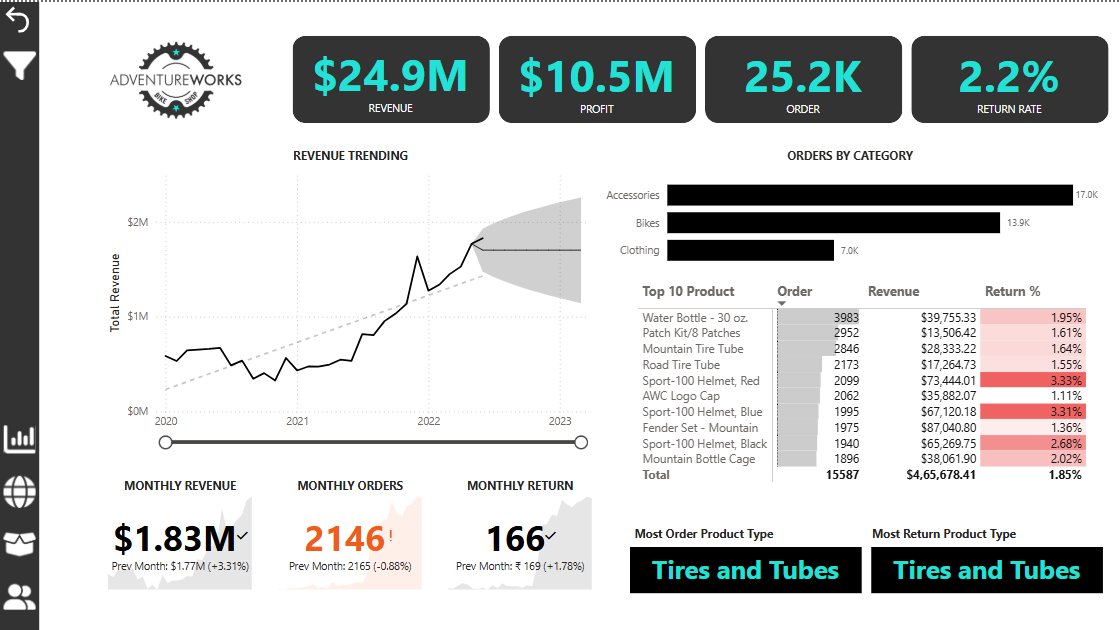

The dashboard page shown, as its layout file describes it:
{"tool":"powerbi","page":{"name":"Exe Dashboard","canvas":[1280,720],"ordinal":0},"visuals":[{"type":"shape","title":"Left Bar","box":[0,0,45,720],"z":0},{"type":"card","fields":{"Values":["Measure Table.Total Revenue"]},"box":[341.8,39.1,210,100.9],"z":0,"group":"g3"},{"type":"group","id":"g1","title":"KPI Background","box":[334.3,39.7,933.4,100],"z":0,"group":"g2"},{"type":"shape","box":[334.3,39.7,225.7,100],"z":0,"group":"g1"},{"type":"actionButton","box":[0.4,474.7,44.7,50.5],"z":0,"group":"g4"},{"type":"group","id":"g2","title":"KPI","box":[334.3,39.1,933.4,101.4],"z":1000},{"type":"group","id":"g3","title":"KPI Values","box":[341.8,39.1,916.8,101.4],"z":1000,"group":"g2"},{"type":"card","fields":{"Values":["Measure Table.Return Rate"]},"box":[1048.6,39.1,210,101.4],"z":1000,"group":"g3"},{"type":"shape","box":[570.2,39.7,225.7,100],"z":1000,"group":"g1"},{"type":"actionButton","box":[0.4,594.9,44.7,50.5],"z":1000,"group":"g4"},{"type":"card","fields":{"Values":["Measure Table.Total Order"]},"box":[813,39.1,210,101.4],"z":2000,"group":"g3"},{"type":"shape","box":[806.1,39.7,225.7,100],"z":2000,"group":"g1"},{"type":"lineChart","title":"REVENUE TRENDING","fields":{"Y":["Measure Table.Total Revenue"],"Category":["Calendar Lookup.Year","Calendar Lookup.Start of Quarter","Calendar Lookup.Start of Month"]},"box":[118.6,166.3,563.7,348.5],"z":2000},{"type":"actionButton","box":[0.4,534.8,44.7,50.5],"z":2000,"group":"g4"},{"type":"card","fields":{"Values":["Measure Table.Total Profit"]},"box":[577.4,39.1,210,101.4],"z":3000,"group":"g3"},{"type":"shape","box":[1042,39.7,225.7,100],"z":3000,"group":"g1"},{"type":"kpi","title":"MONTHLY REVENUE","fields":{"Indicator":["Measure Table.Total Revenue"],"TrendLine":["Calendar Lookup.Start of Month"],"Goal":["Measure Table.Previous Month Revenue"]},"box":[118.3,542.5,174.6,134.2],"z":3000},{"type":"actionButton","box":[0.4,655,44.7,50.5],"z":3000,"group":"g4"},{"type":"kpi","title":"MONTHLY ORDERS","fields":{"TrendLine":["Calendar Lookup.Start of Month"],"Indicator":["Measure Table.Total Order"],"Goal":["Measure Table.Previous Month Orders"]},"box":[313.1,542.5,174.6,134.2],"z":4000},{"type":"kpi","title":"MONTHLY RETURN","fields":{"TrendLine":["Calendar Lookup.Start of Month"],"Indicator":["Measure Table.Total Return"],"Goal":["Measure Table.Previous Month Return"]},"box":[507.9,542.5,174.6,134.2],"z":5000},{"type":"clusteredBarChart","title":"ORDERS BY CATEGORY","fields":{"Category":["Product Categories Lookup.CategoryName"],"Y":["Measure Table.Total Order"]},"box":[682.3,166.3,577.2,149.2],"z":6000},{"type":"pivotTable","fields":{"Rows":["Product Lookup.ProductName"],"Values":["Measure Table.Total Order","Measure Table.Total Revenue","Measure Table.Return Rate"]},"box":[725,315,542.5,238.8],"z":7000},{"type":"card","fields":{"Values":["Min(Product Subcategories Lookup.SubcategoryName)"]},"box":[719.6,622.9,264.5,52.6],"z":8000},{"type":"textbox","box":[720.2,593.1,185.9,29.3],"z":9000},{"type":"textbox","box":[991.7,593.1,205.4,29.3],"z":10000},{"type":"card","fields":{"Values":["Min(Product Subcategories Lookup.SubcategoryName)"]},"box":[995.6,622.9,264.5,52.6],"z":11000},{"type":"actionButton","box":[0,0,44.7,40.4],"z":12000},{"type":"group","id":"g4","title":"Navigation Button","box":[0.4,474.7,44.7,230.8],"z":13000},{"type":"actionButton","box":[0,48.9,45.2,48.9],"z":14000},{"type":"image","box":[68.5,39.1,265.4,101.5],"z":16000}]}

Visuals, with their boxes on the page's 1280x720 design canvas (x1, y1, x2, y2). These are canvas units, not pixel positions in the 1120x630 screenshot, which may show the page scaled, cropped or inside an application window:
"Left Bar" shape: select_region(0, 0, 45, 720)
card - Measure Table.Total Revenue: select_region(342, 39, 552, 140)
"KPI Background" group: select_region(334, 40, 1268, 140)
shape: select_region(334, 40, 560, 140)
actionButton: select_region(0, 475, 45, 525)
"KPI" group: select_region(334, 39, 1268, 140)
"KPI Values" group: select_region(342, 39, 1259, 140)
card - Measure Table.Return Rate: select_region(1049, 39, 1259, 140)
shape: select_region(570, 40, 796, 140)
actionButton: select_region(0, 595, 45, 645)
card - Measure Table.Total Order: select_region(813, 39, 1023, 140)
shape: select_region(806, 40, 1032, 140)
"REVENUE TRENDING" lineChart: select_region(119, 166, 682, 515)
actionButton: select_region(0, 535, 45, 585)
card - Measure Table.Total Profit: select_region(577, 39, 787, 140)
shape: select_region(1042, 40, 1268, 140)
"MONTHLY REVENUE" kpi: select_region(118, 542, 293, 677)
actionButton: select_region(0, 655, 45, 706)
"MONTHLY ORDERS" kpi: select_region(313, 542, 488, 677)
"MONTHLY RETURN" kpi: select_region(508, 542, 682, 677)
"ORDERS BY CATEGORY" clusteredBarChart: select_region(682, 166, 1260, 316)
pivotTable - Product Lookup.ProductName x Measure Table.Total Order: select_region(725, 315, 1268, 554)
card - Min(Product Subcategories Lookup.SubcategoryName): select_region(720, 623, 984, 676)
textbox: select_region(720, 593, 906, 622)
textbox: select_region(992, 593, 1197, 622)
card - Min(Product Subcategories Lookup.SubcategoryName): select_region(996, 623, 1260, 676)
actionButton: select_region(0, 0, 45, 40)
"Navigation Button" group: select_region(0, 475, 45, 706)
actionButton: select_region(0, 49, 45, 98)
image: select_region(68, 39, 334, 141)
